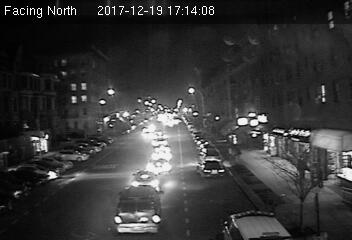car: (132, 171, 162, 193), (195, 160, 225, 177), (146, 158, 171, 174)
police: (217, 206, 295, 240)
truck: (115, 186, 163, 232)
